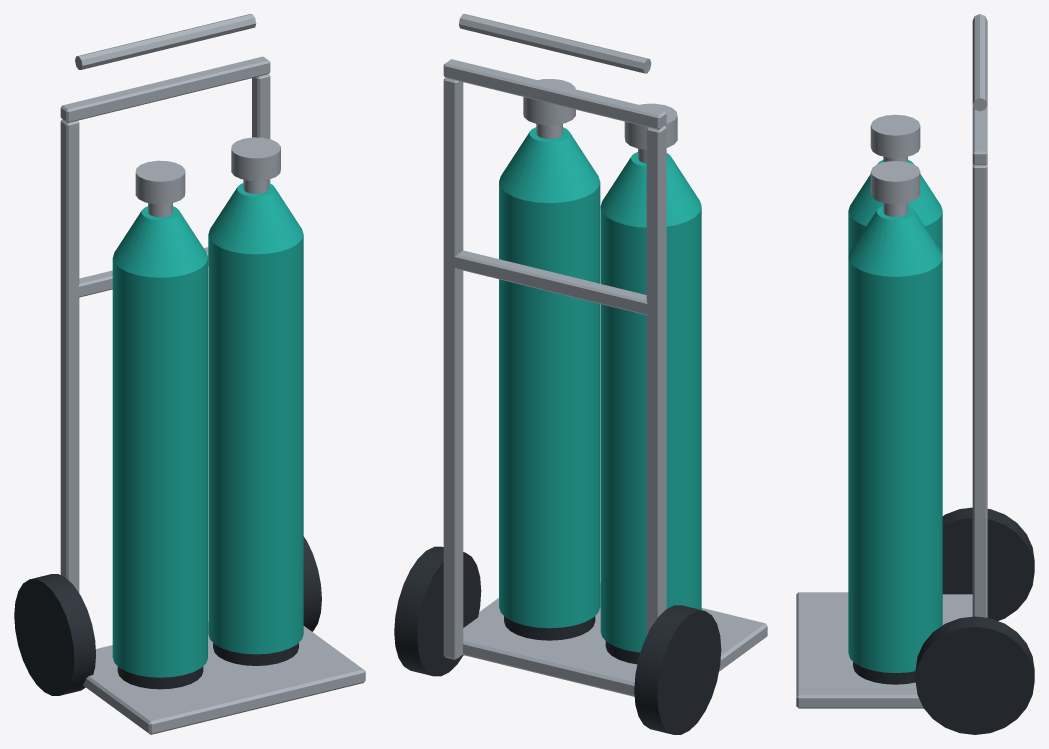
The model's file is cylinder-cart.glb.
3 views of the same model, side by side, from view 1: azimuth 30°, elevation 25°; view 2: azimuth 150°, elevation 25°; view 3: azimuth 270°, elevation 25° (orthographic). The views are drawn at different scales.
Visible parts, largest first — view 1: cylinder-cart; view 2: cylinder-cart; view 3: cylinder-cart.
Part boxes in pixels (left/top/right/bottom): cylinder-cart: left=14, top=14, right=365, bottom=734; cylinder-cart: left=394, top=14, right=767, bottom=734; cylinder-cart: left=796, top=14, right=1034, bottom=734.
Bounding box in the file's own units: 0.57 × 1.38 × 0.48.
